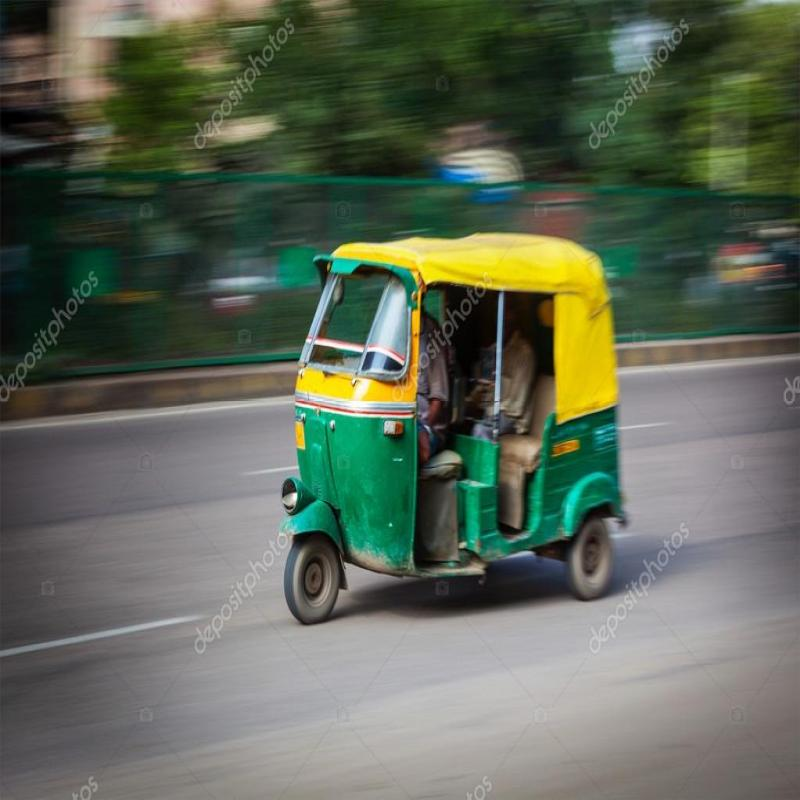auto: (292, 235, 626, 619)
